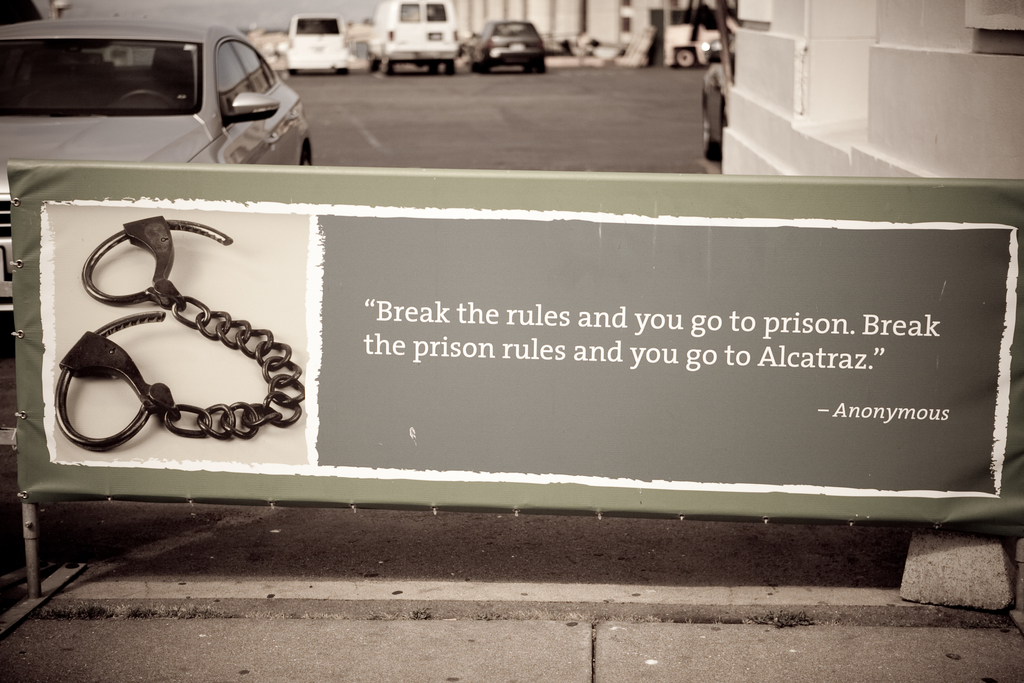Car: (0, 16, 308, 351), (469, 21, 551, 74)
